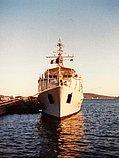MIL_Ship: (36, 38, 84, 119)
